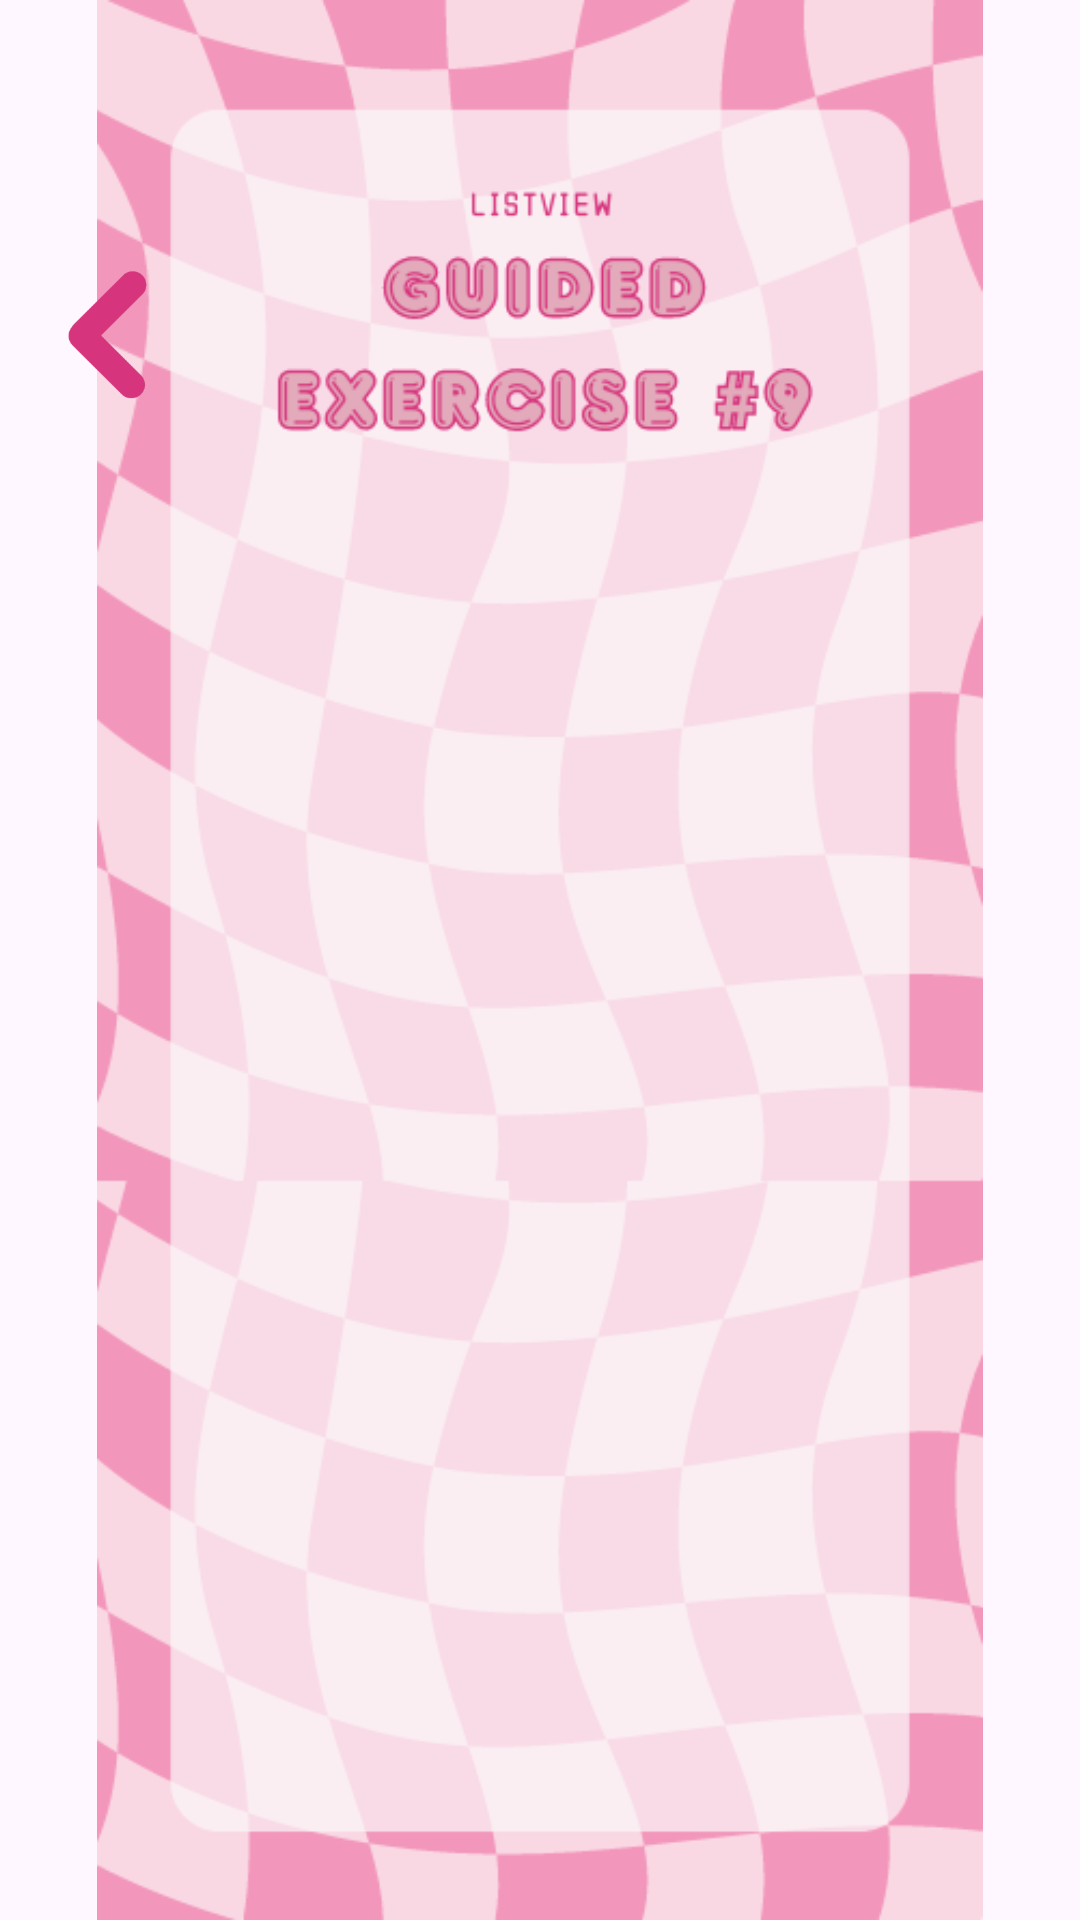

Icons on this 1080 × 1920 Android screen, each with the point to tap as [x,y]:
back: [107,337]
